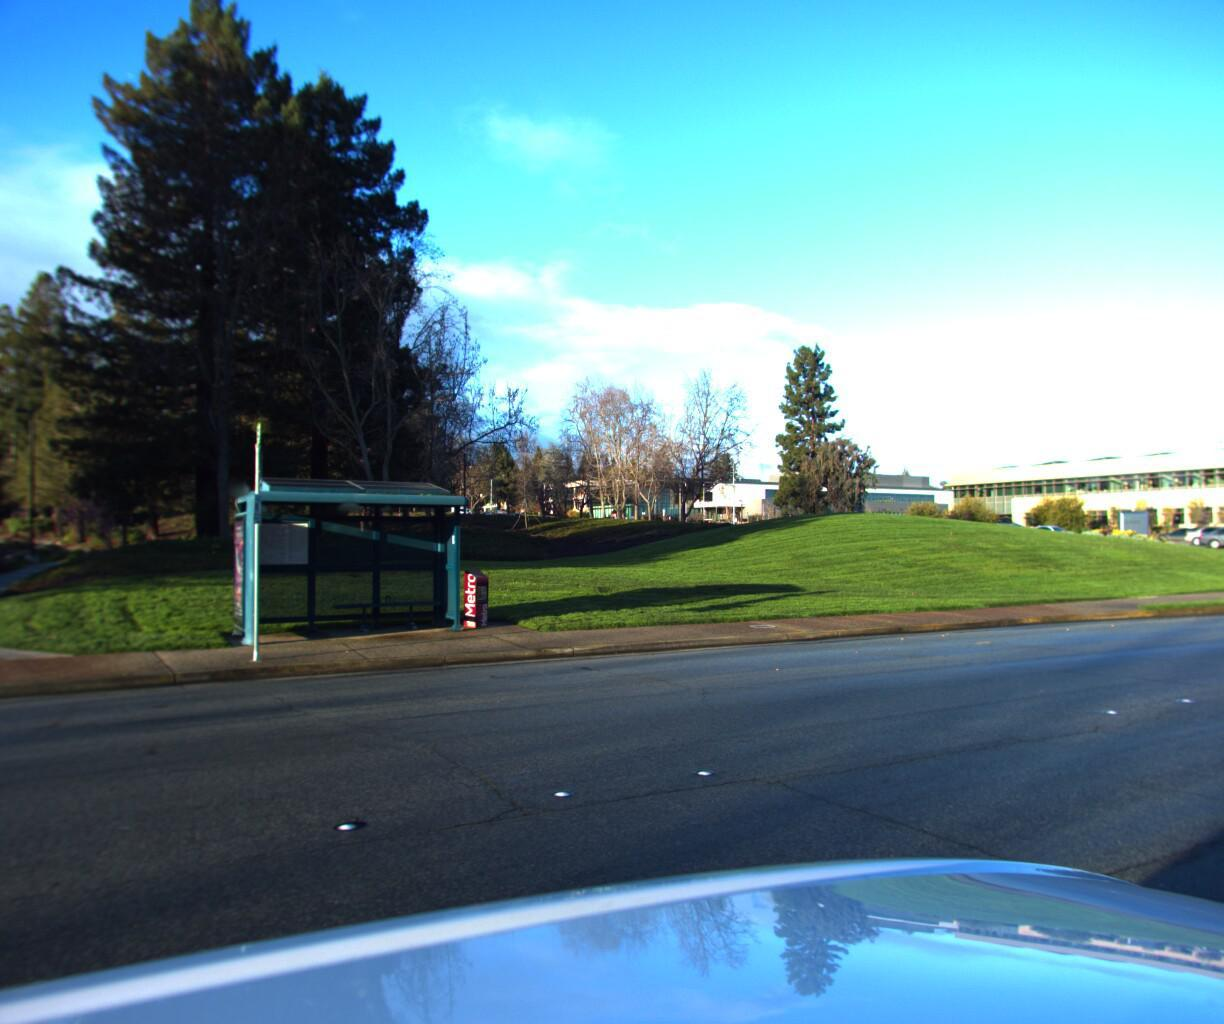car: (1172, 523, 1224, 548), (1191, 521, 1224, 545)
